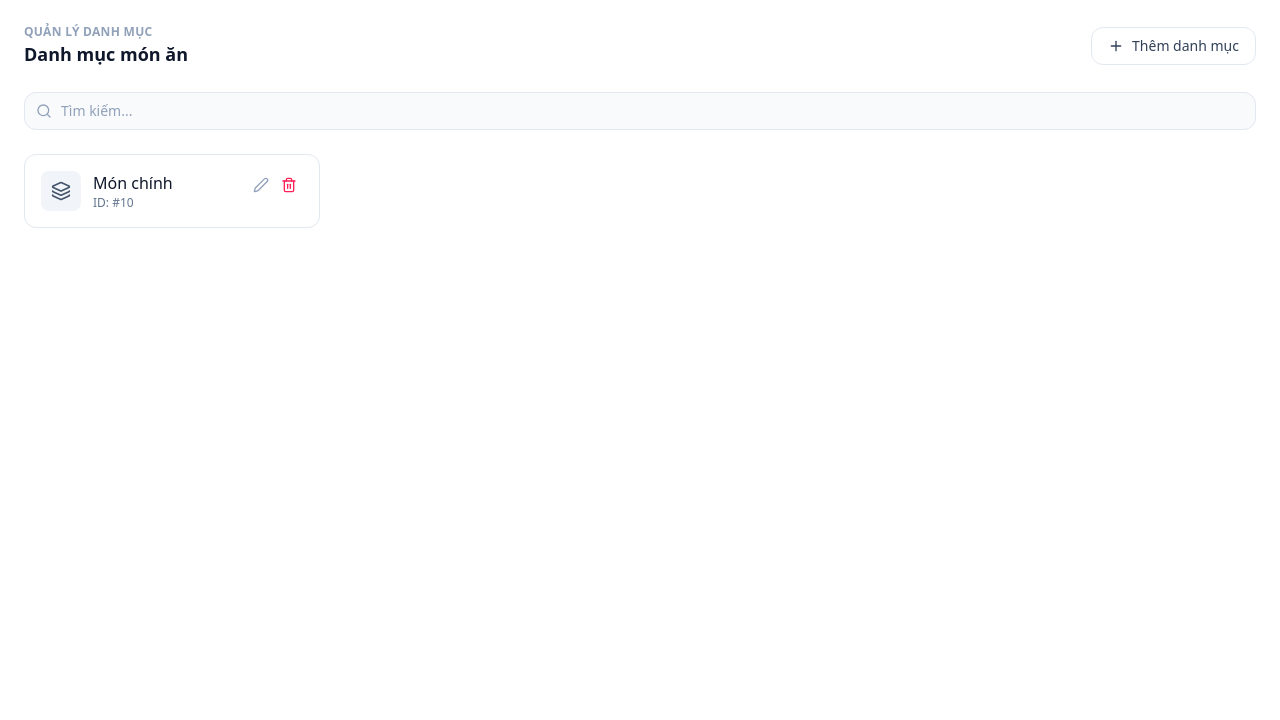
it: Integration: Tenant Category Page Flow › updates an existing category from list
expect the heading "Món chính" is shown: met, box [93,171,173,195]
Click the button titled "Chỉnh sửa danh mục" at point(261, 185), box [247,171,275,199]
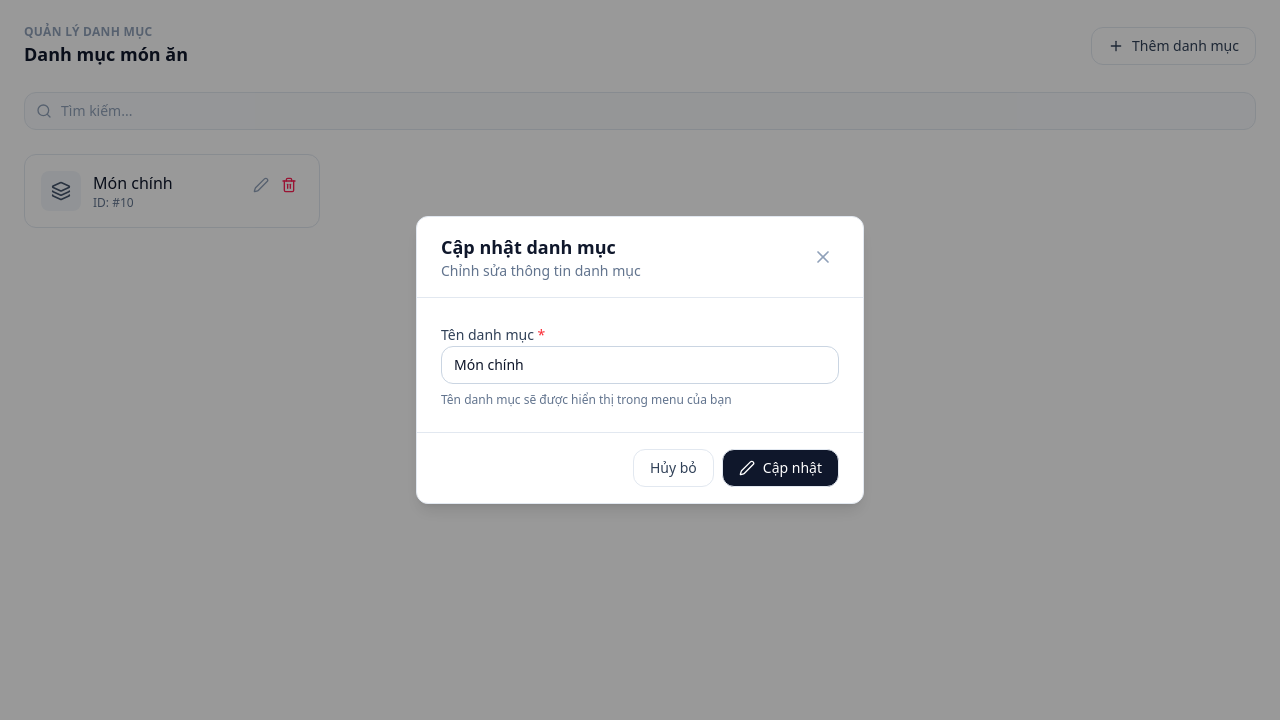
expect the heading "Cập nhật danh mục" is shown: met, box [441,233,641,261]
expect the field showing "Món chính" is shown: met
Replace the text in the field with placeholder "Nhập tên danh mục..." with "Món chính mới" at point(640, 365), box [441,346,839,384]
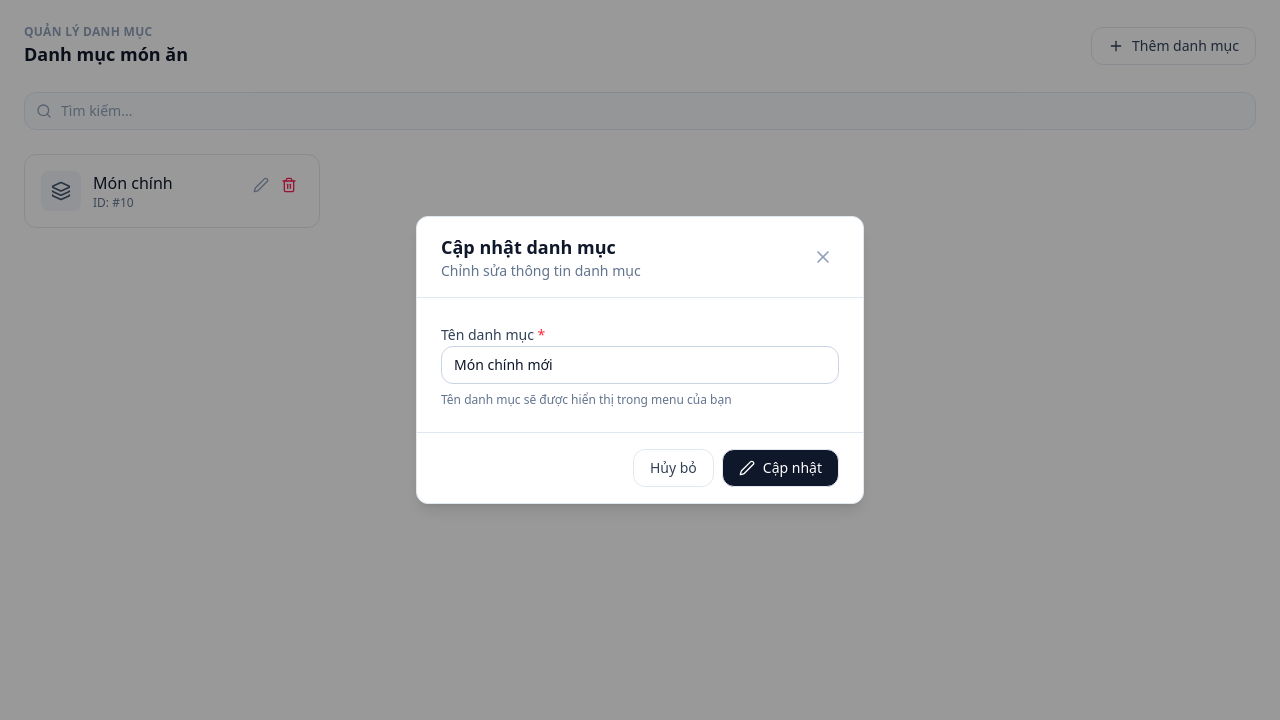
Click the button "Cập nhật" at point(780, 468), box [722,449,839,487]
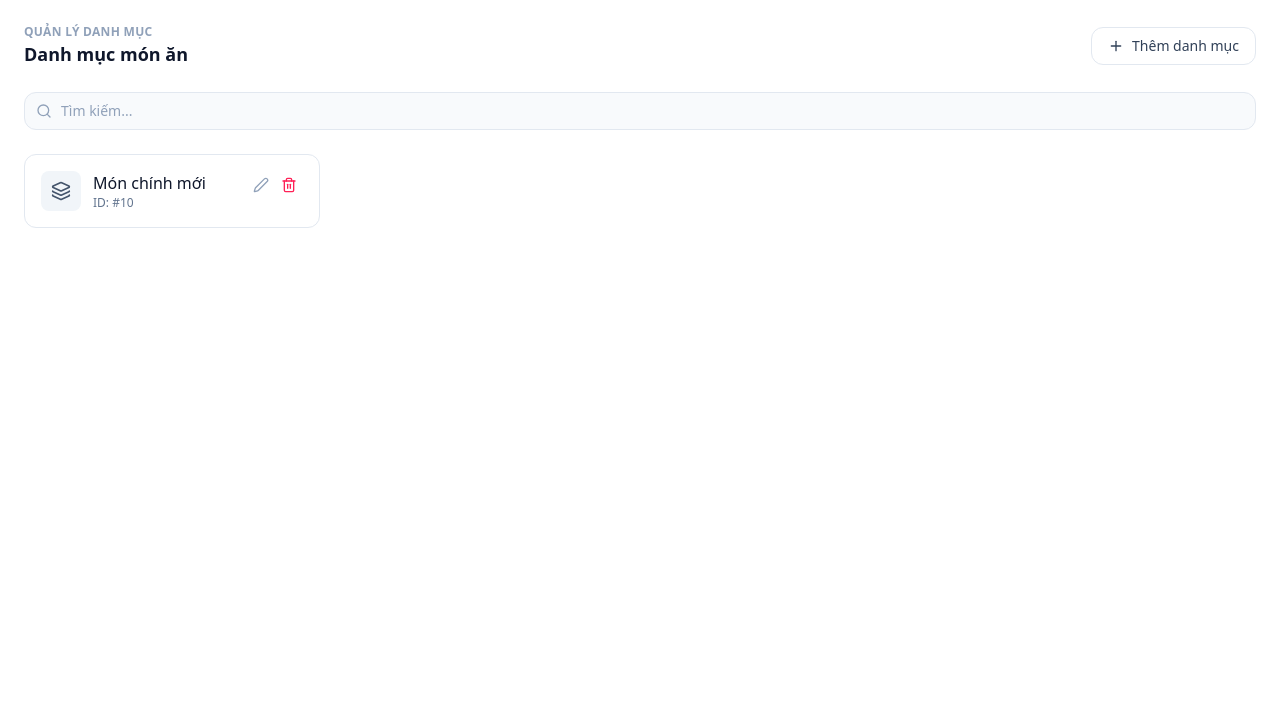
expect the heading "Món chính mới" is shown: met, box [93,171,206,195]
